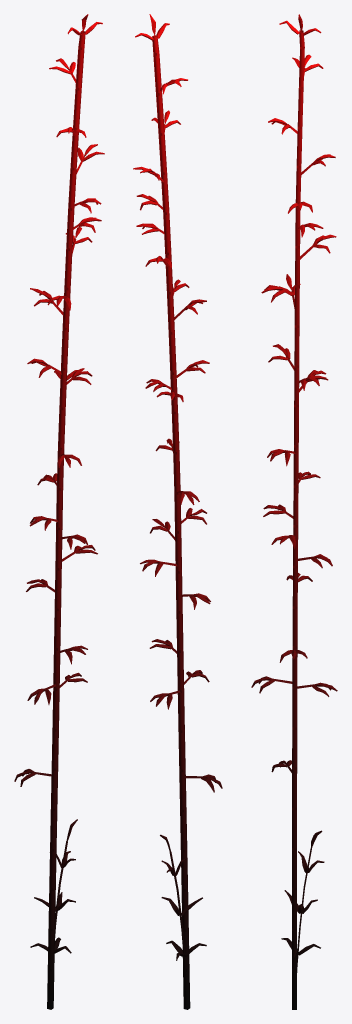
Rendered from TreeBambooTall08.fbx.
3 views of the same model, side by side, from view 1: azimuth 30°, elevation 25°; view 2: azimuth 210°, elevation 25°; view 3: azimuth 330°, elevation 25° (orthographic). The views are drawn at different scales.
Visible parts, largest first — view 1: TreeBambooTall08_LOD0; view 2: TreeBambooTall08_LOD0; view 3: TreeBambooTall08_LOD0.
Boxes of the visible parts, x1,y1,x2,y2 form: TreeBambooTall08_LOD0: (14,14,104,1009); TreeBambooTall08_LOD0: (133,14,222,1009); TreeBambooTall08_LOD0: (251,14,337,1009).
Size of what is drawn, in the model's own units: 117 by 1517 by 106.
